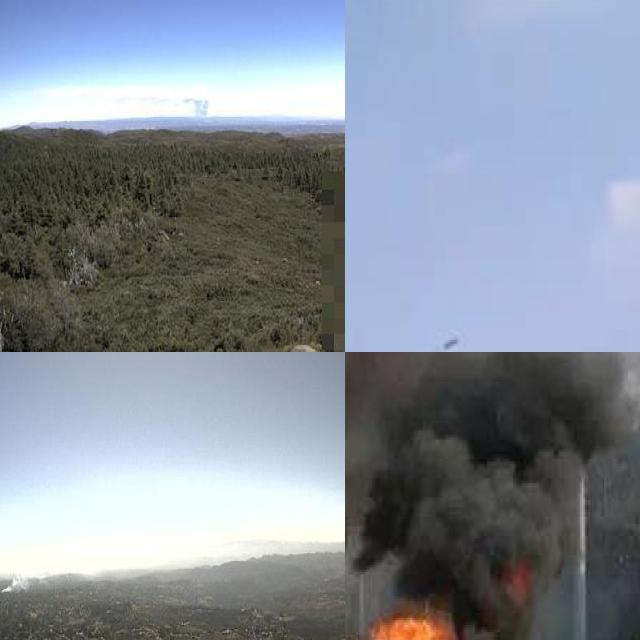smoke: (345, 352, 640, 640), (0, 562, 57, 592), (178, 89, 211, 126)
